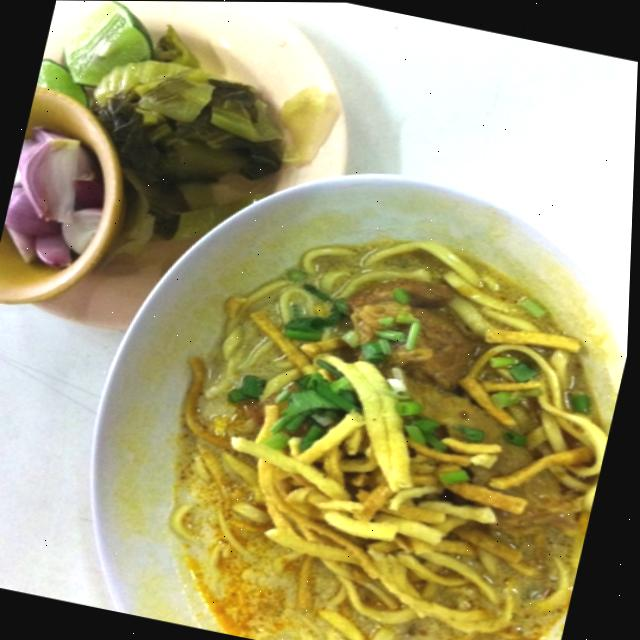面条主食: (59, 138, 636, 640)
